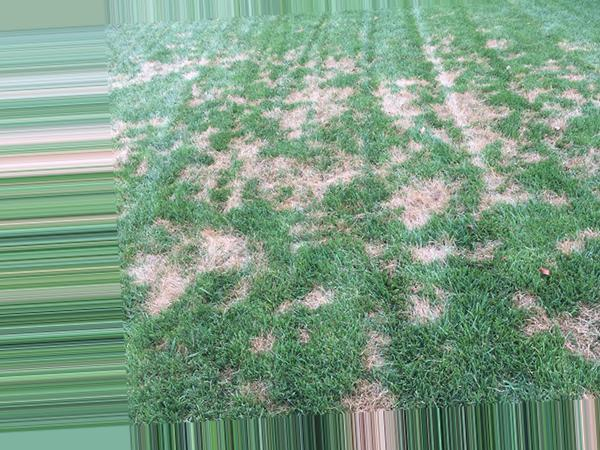patch: (142, 219, 242, 280), (286, 151, 349, 202), (129, 47, 201, 85), (448, 92, 500, 141), (281, 87, 338, 125), (363, 332, 390, 374), (407, 185, 437, 221), (412, 290, 444, 321), (405, 244, 448, 261), (474, 178, 498, 208), (378, 91, 410, 113), (351, 387, 386, 407), (244, 149, 269, 175), (528, 303, 547, 331), (305, 282, 327, 306)
